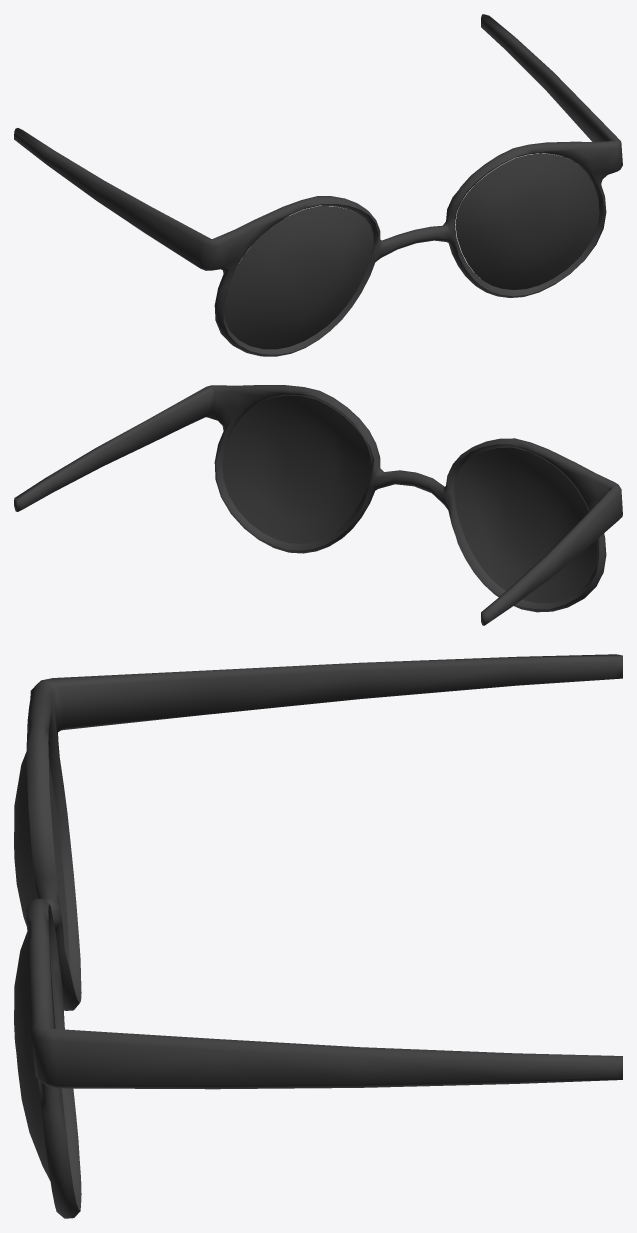
File: Babka_Glasses.glb
3 renders of one model, top to bottom at view 1: azimuth 30°, elevation 25°; view 2: azimuth 150°, elevation 25°; view 3: azimuth 270°, elevation 25°, orthographic. The views are drawn at different scales.
Parts seen in each view (by area): view 1: geometry_0; view 2: geometry_0; view 3: geometry_0.
Boxes of the visible parts, x1,y1,x2,y2 form: geometry_0: (14,14,622,356); geometry_0: (14,385,622,625); geometry_0: (14,654,622,1218).
Size of the model in its own units: 0.2607 by 0.0831 by 0.164.
Materials: 1 (1 with a texture image).
